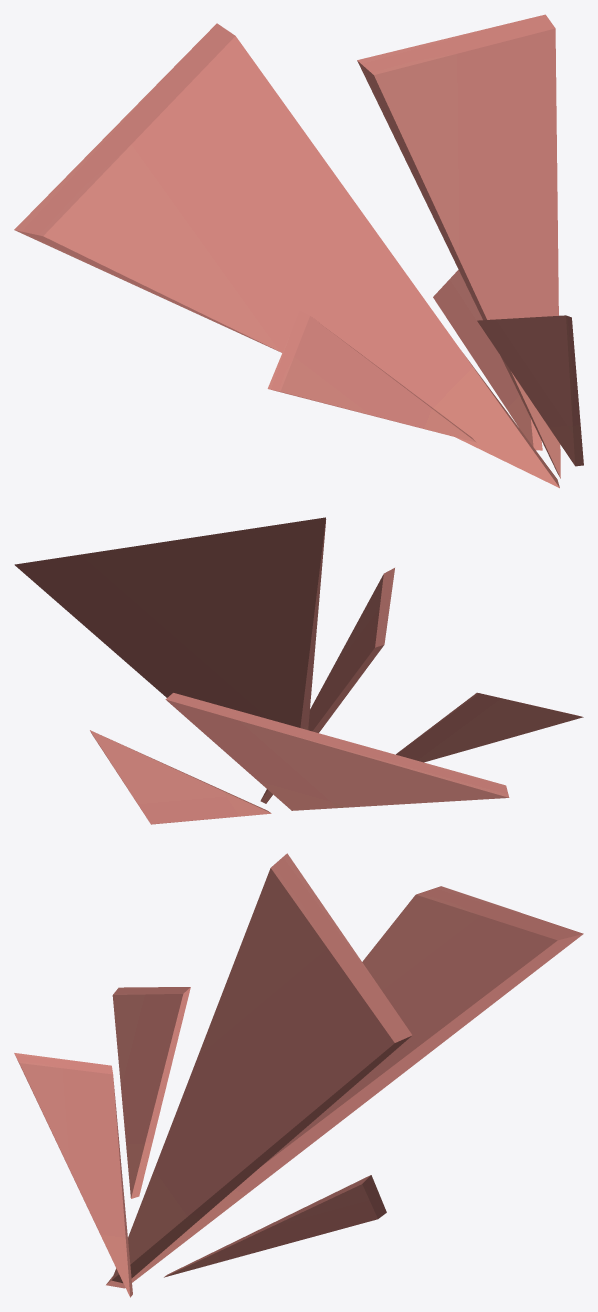
File: fire.glb
The picture shows the model from 3 angles, top to bottom: view 1: azimuth 30°, elevation 25°; view 2: azimuth 150°, elevation 25°; view 3: azimuth 270°, elevation 25°; orthographic projection. The views are drawn at different scales.
Parts seen in each view (by area): view 1: Cube.004; view 2: Cube.004; view 3: Cube.004.
Part boxes in pixels (<box>): Cube.004: <box>14,14,583,488</box>; Cube.004: <box>14,517,583,824</box>; Cube.004: <box>14,853,583,1297</box>.
Size of the model in its own units: 0.4929 by 0.3522 by 0.4797.
Materials: 1 (1 with a texture image).
